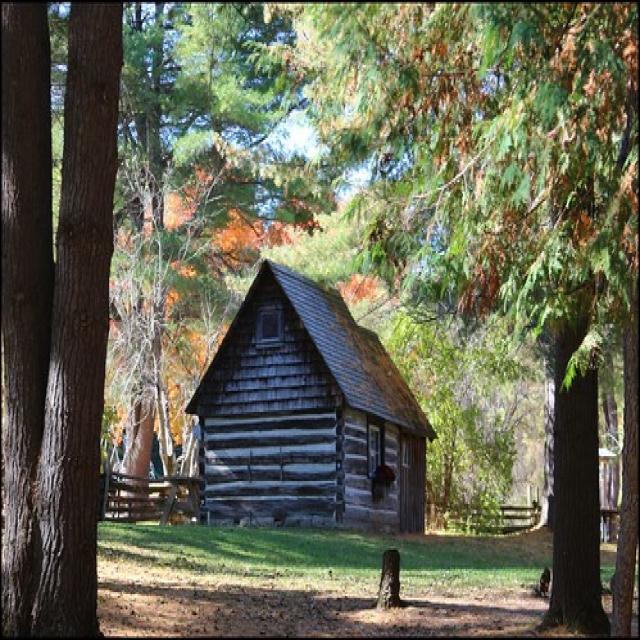Normal_building: (180, 253, 436, 544)
